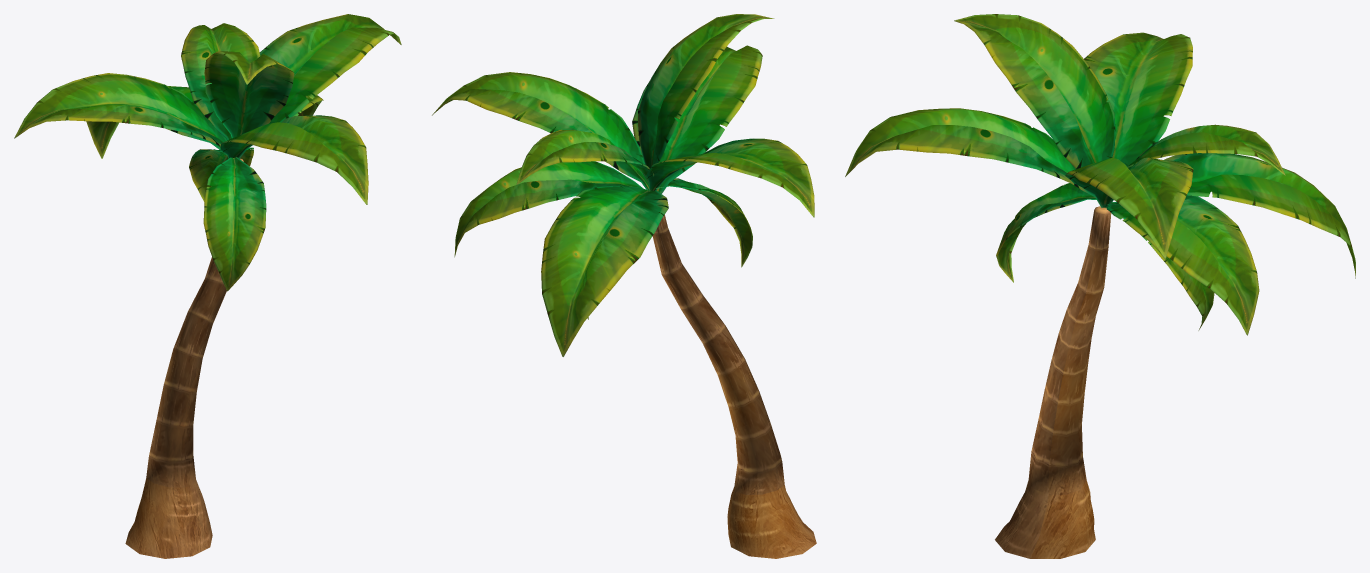
File: Palm_007.fbx
The picture shows the model from 3 angles, left to right: view 1: azimuth 30°, elevation 25°; view 2: azimuth 150°, elevation 25°; view 3: azimuth 270°, elevation 25°; orthographic projection. The views are drawn at different scales.
Parts seen in each view (by area): view 1: Palm_007_LOD0; view 2: Palm_007_LOD0; view 3: Palm_007_LOD0.
Part boxes in pixels (box(x1,y1,x2,y2)): Palm_007_LOD0: box(14, 14, 401, 558); Palm_007_LOD0: box(432, 14, 816, 558); Palm_007_LOD0: box(845, 14, 1355, 558).
Size of what is drawn, in the model's own units: 530 by 640 by 540.
